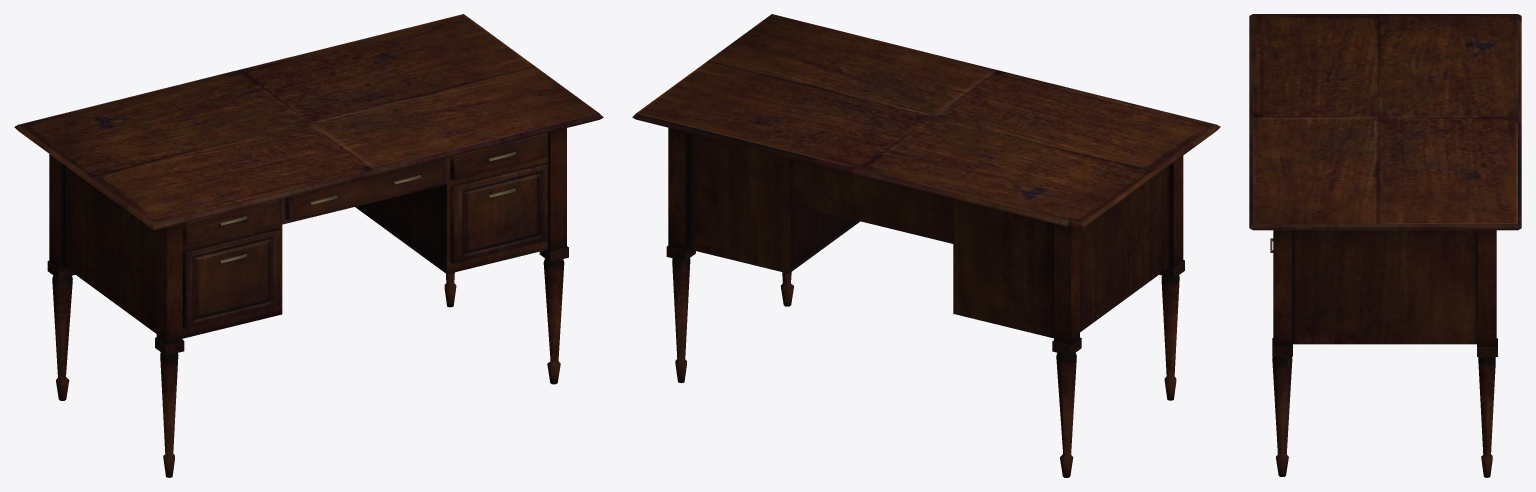
The model's file is si-schreibtisch.glb.
3 views of the same model, side by side, from view 1: azimuth 30°, elevation 25°; view 2: azimuth 150°, elevation 25°; view 3: azimuth 270°, elevation 25° (orthographic). The views are drawn at different scales.
Visible parts, largest first — view 1: si-schreibtisch; view 2: si-schreibtisch; view 3: si-schreibtisch.
Part boxes in pixels (x1,y1,x2,y2): si-schreibtisch: (14,14,603,477); si-schreibtisch: (632,14,1220,477); si-schreibtisch: (1249,14,1521,477).
Bounding box in the file's own units: 1.29 × 0.7482 × 0.6939.
Materials: 1 (1 with a texture image).
